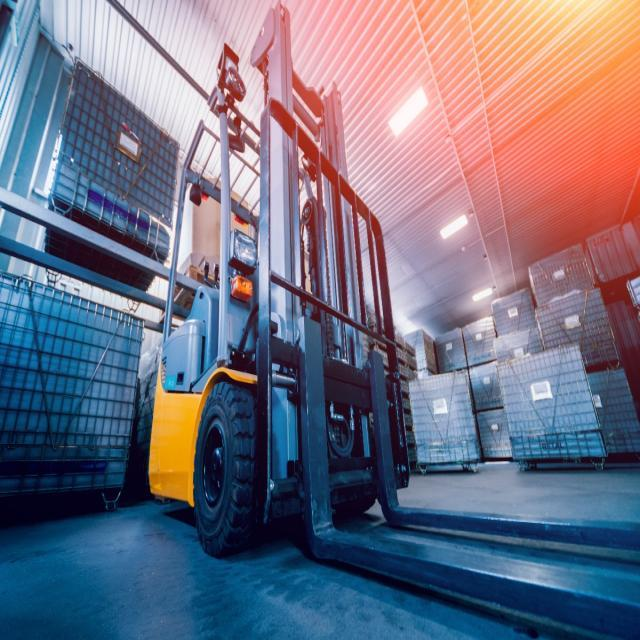forklift: (134, 15, 416, 564)
